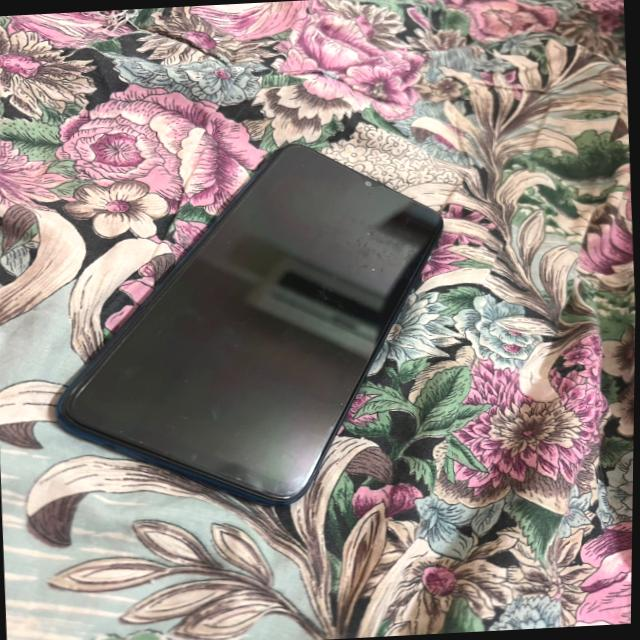Smartphone: (58, 145, 444, 506)
